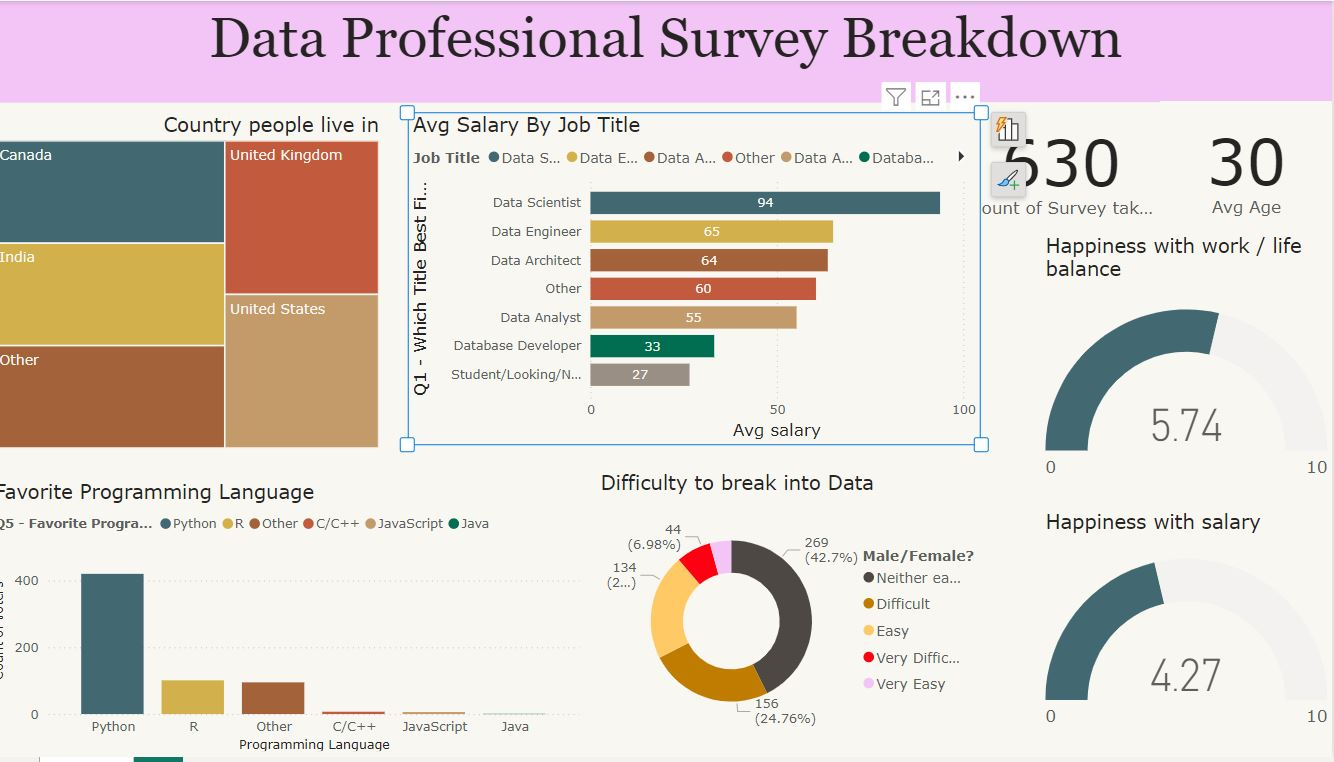

What the dashboard file says about the page in this screenshot:
{"tool":"powerbi","page":{"name":"Page 1","canvas":[1280,720],"ordinal":0},"visuals":[{"type":"textbox","box":[10,0,1270,96.7],"z":0},{"type":"card","fields":{"Values":["Avg(Data Professional Survey.Q10 - Current Age)"]},"box":[1142.2,95.6,137.8,126.7],"z":1},{"type":"card","fields":{"Values":["Count(Data Professional Survey.Unique ID)"]},"box":[953.3,96.7,188.9,125.6],"z":2},{"type":"barChart","title":"Avg Salary By Job Title","fields":{"Category":["Data Professional Survey.Q1 - Which Title Best Fits your Current Role?.1"],"Y":["Avg(Data Professional Survey.Avg salary)"],"Series":["Data Professional Survey.Q1 - Which Title Best Fits your Current Role?.1"]},"box":[398.8,106.2,546.2,316.2],"z":3},{"type":"columnChart","title":"Favorite Programming Language","fields":{"Category":["Data Professional Survey.Q5 - Favorite Programming Language.1"],"Y":["CountNonNull(Data Professional Survey.Unique ID)"],"Series":["Data Professional Survey.Q5 - Favorite Programming Language.1"]},"box":[0,456.2,567.5,263.8],"z":4},{"type":"treemap","title":" Country people live in","fields":{"Details":["Data Professional Survey.Q11 - Which Country do you live in?.1"],"Values":["Count(Data Professional Survey.Q11 - Which Country do you live in?.1)"]},"box":[0,106.2,376.2,325],"z":5},{"type":"gauge","title":"Happiness with work / life balance","fields":{"Y":["Avg(Data Professional Survey.Q6 - How Happy are you in your Current Position with the following? (Work/Life Balance))"],"MinValue":["Min(Data Professional Survey.Q6 - How Happy are you in your Current Position with the following? (Work/Life Balance))"],"MaxValue":["Max(Data Professional Survey.Q6 - How Happy are you in your Current Position with the following? (Work/Life Balance))"]},"box":[1001.2,221.2,278.8,263.8],"z":6},{"type":"gauge","title":"Happiness with salary","fields":{"Y":["Avg(Data Professional Survey.Q6 - How Happy are you in your Current Position with the following? (Salary))"],"MinValue":["Min(Data Professional Survey.Q6 - How Happy are you in your Current Position with the following? (Salary))"],"MaxValue":["Max(Data Professional Survey.Q6 - How Happy are you in your Current Position with the following? (Salary))"]},"box":[1001.2,485,278.8,235],"z":7},{"type":"donutChart","title":"Difficulty to break into Data","fields":{"Category":["Data Professional Survey.Q7 - How difficult was it for you to break into Data?"],"Y":["CountNonNull(Data Professional Survey.Q7 - How difficult was it for you to break into Data?)"]},"box":[577.5,447.5,367.5,263.8],"z":8}]}

Visuals, with their boxes in screenshot pixels (x1, y1, x2, y2), scaled from the page's 1280x720 canvas onto the 1334x762 screenshot:
textbox: x1=10 y1=0 x2=1333 y2=102
card - Avg(Data Professional Survey.Q10 - Current Age): x1=1190 y1=101 x2=1333 y2=235
card - Count(Data Professional Survey.Unique ID): x1=994 y1=102 x2=1190 y2=235
"Avg Salary By Job Title" barChart: x1=416 y1=112 x2=985 y2=447
"Favorite Programming Language" columnChart: x1=0 y1=483 x2=591 y2=761
" Country people live in" treemap: x1=0 y1=112 x2=392 y2=456
"Happiness with work / life balance" gauge: x1=1043 y1=234 x2=1333 y2=513
"Happiness with salary" gauge: x1=1043 y1=513 x2=1333 y2=761
"Difficulty to break into Data" donutChart: x1=602 y1=474 x2=985 y2=753
